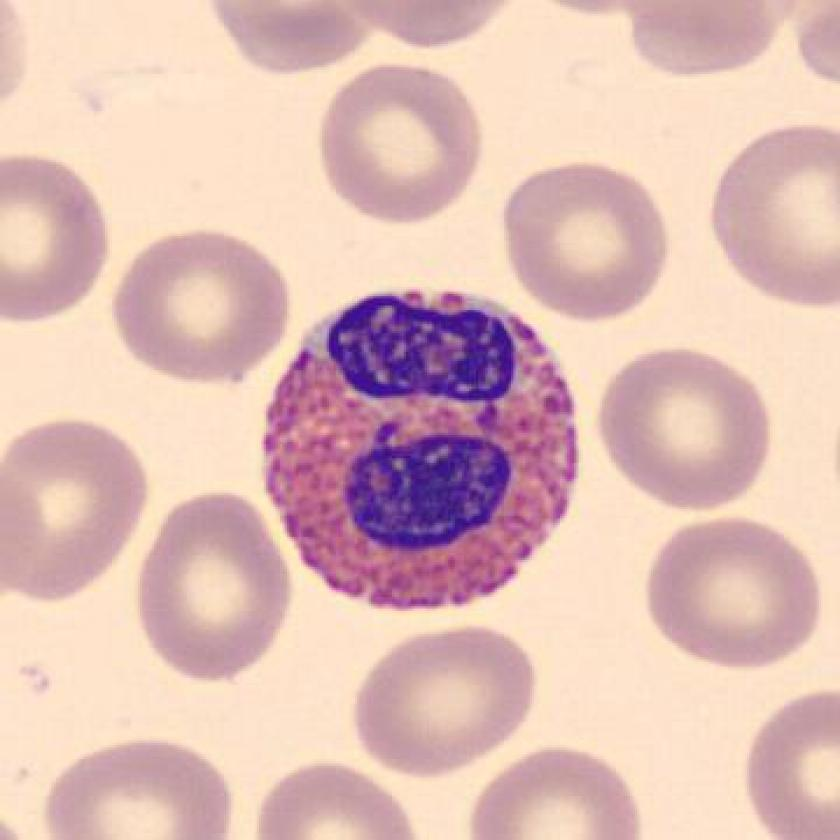eosinophil: (251, 269, 591, 626)
